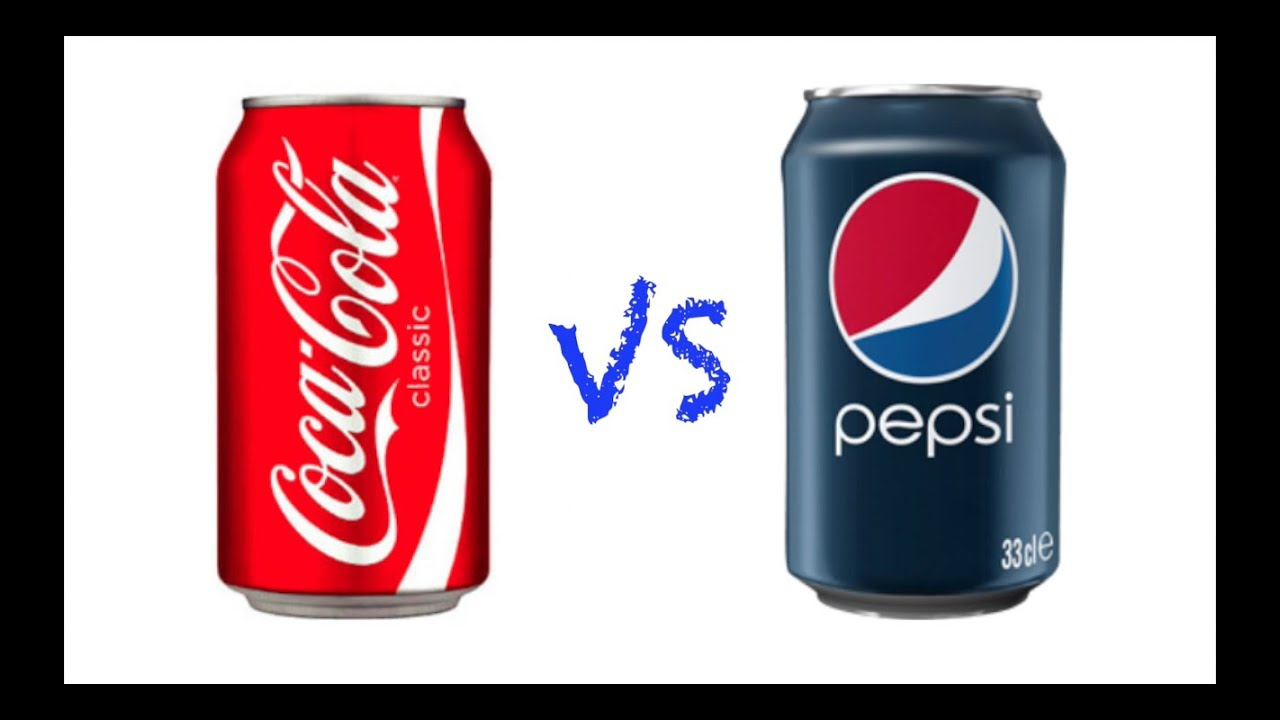pepsi: (816, 170, 1019, 383), (826, 170, 1019, 383)
